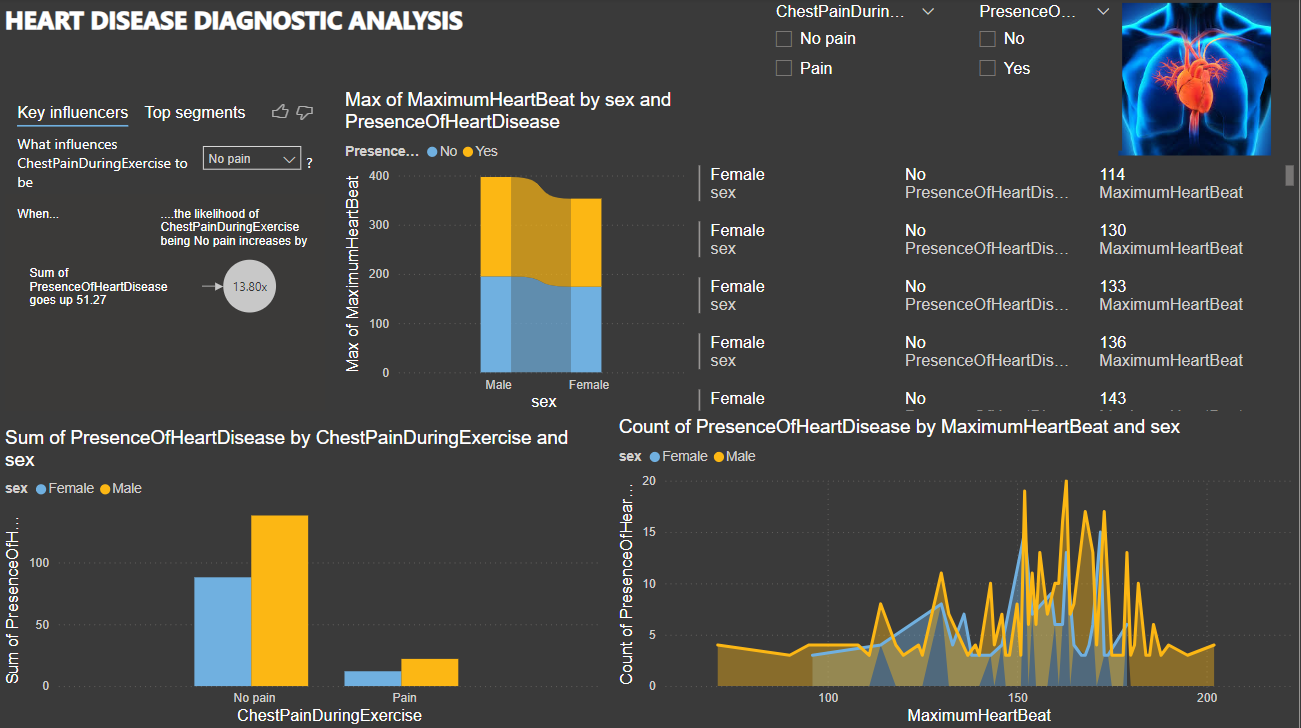

What the dashboard file says about the page in this screenshot:
{"tool":"powerbi","page":{"name":"HEART DISEASE ANALYSIS","canvas":[1280,720],"ordinal":1},"visuals":[{"type":"keyDriversVisual","fields":{"Target":["SQLAnalysis4.ChestPainDuringExercise"],"ExplainBy":["SQLAnalysis4.sex","Sum(SQLAnalysis4.PresenceOfHeartDisease)"]},"box":[0,89.9,325.2,321.5],"z":0},{"type":"clusteredColumnChart","fields":{"Category":["SQLAnalysis4.ChestPainDuringExercise"],"Y":["Sum(SQLAnalysis4.PresenceOfHeartDisease)"],"Series":["SQLAnalysis4.sex"]},"box":[0,422.5,596.2,298.1],"z":1},{"type":"stackedAreaChart","fields":{"Category":["SQLAnalysis5.MaximumHeartBeat"],"Y":["CountNonNull(SQLAnalysis5.PresenceOfHeartDisease)"],"Series":["SQLAnalysis5.sex"]},"box":[604.8,411.4,675,309.2],"z":2},{"type":"multiRowCard","fields":{"Values":["SQLAnalysis5.sex","SQLAnalysis5.PresenceOfHeartDisease","SQLAnalysis5.MaximumHeartBeat"]},"box":[683.6,160.1,596.2,251.3],"z":3},{"type":"ribbonChart","fields":{"Category":["SQLAnalysis5.sex"],"Series":["SQLAnalysis5.PresenceOfHeartDisease"],"Y":["Max(SQLAnalysis5.MaximumHeartBeat)"]},"box":[335,89.9,348.6,321.5],"z":4},{"type":"image","box":[1074.1,0,205.7,160.1],"z":5},{"type":"textbox","box":[0,0,500.1,80.1],"z":6},{"type":"slicer","fields":{"Values":["SQLAnalysis5.PresenceOfHeartDisease"]},"box":[952.1,0,154,150.3],"z":7},{"type":"slicer","fields":{"Values":["SQLAnalysis4.ChestPainDuringExercise"]},"box":[751.4,0,182.3,150.3],"z":8}]}

Visuals, with their boxes in screenshot pixels (x1, y1, x2, y2), scaled from the page's 1280x720 canvas onto the 1301x728 screenshot:
keyDriversVisual - SQLAnalysis4.ChestPainDuringExercise x SQLAnalysis4.sex: crop(0, 91, 331, 416)
clusteredColumnChart - SQLAnalysis4.ChestPainDuringExercise x Sum(SQLAnalysis4.PresenceOfHeartDisease): crop(0, 427, 606, 727)
stackedAreaChart - SQLAnalysis5.MaximumHeartBeat x CountNonNull(SQLAnalysis5.PresenceOfHeartDisease): crop(615, 416, 1300, 727)
multiRowCard - SQLAnalysis5.sex x SQLAnalysis5.PresenceOfHeartDisease: crop(695, 162, 1300, 416)
ribbonChart - SQLAnalysis5.sex x SQLAnalysis5.PresenceOfHeartDisease: crop(340, 91, 695, 416)
image: crop(1092, 0, 1300, 162)
textbox: crop(0, 0, 508, 81)
slicer - SQLAnalysis5.PresenceOfHeartDisease: crop(968, 0, 1124, 152)
slicer - SQLAnalysis4.ChestPainDuringExercise: crop(764, 0, 949, 152)
